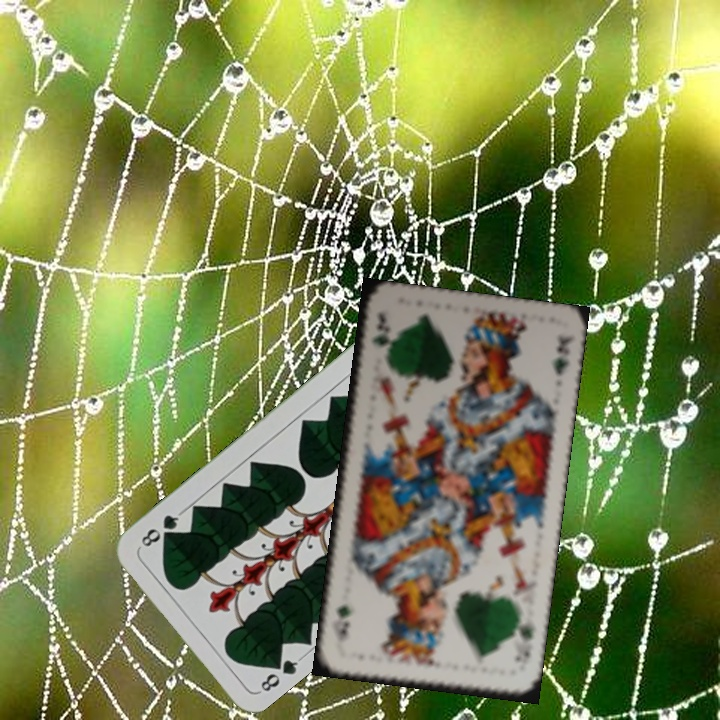G8: (256, 651, 305, 696)
GK: (512, 615, 536, 659), (367, 307, 391, 350)
